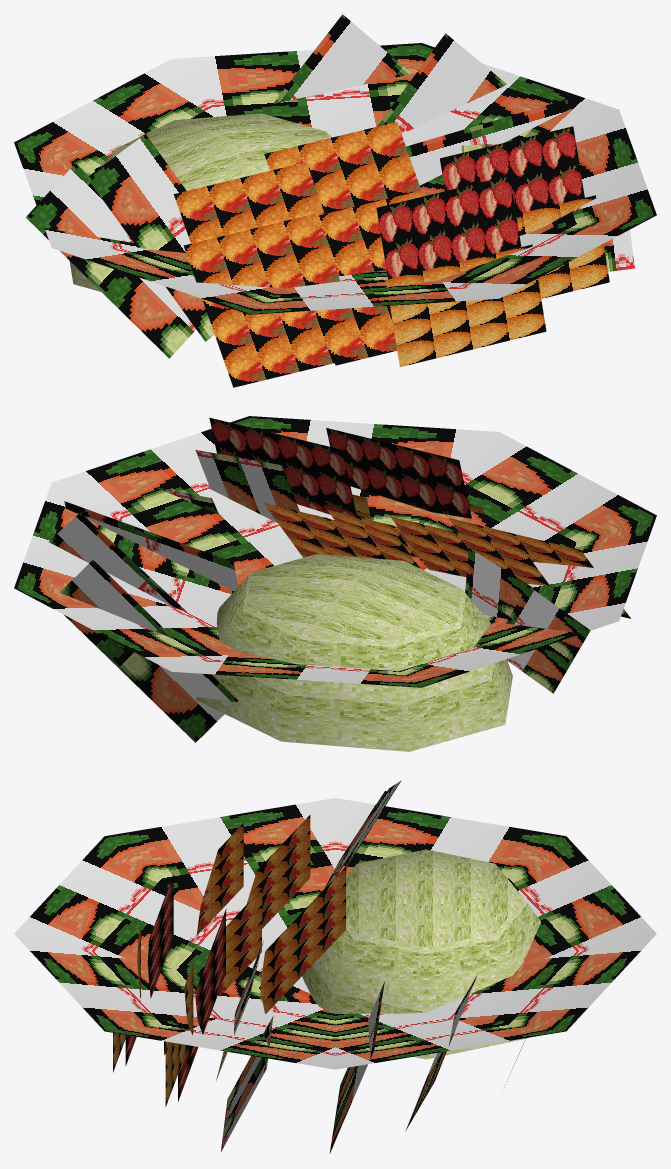
The model's file is 5573u_fri03_hs.gltf.
3 views of the same model, one above another, from view 1: azimuth 30°, elevation 25°; view 2: azimuth 150°, elevation 25°; view 3: azimuth 270°, elevation 25° (orthographic).
Visible parts, largest first — view 1: 5573u_fri03_hs; view 2: 5573u_fri03_hs; view 3: 5573u_fri03_hs.
Boxes of the visible parts, x1,y1,x2,y2 form: 5573u_fri03_hs: (14, 14, 656, 387); 5573u_fri03_hs: (14, 416, 656, 751); 5573u_fri03_hs: (14, 780, 656, 1153).
Size of the model in its own units: 0.896 by 0.3147 by 0.896.
Materials: 6 (6 with a texture image).
